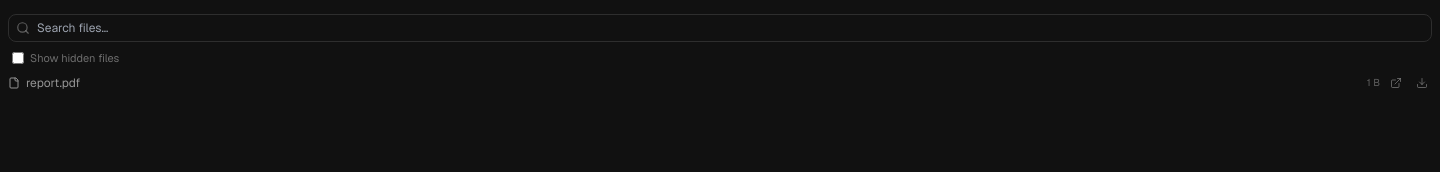
Test: SidebarWorkspaceTree hidden files › hides dotfiles by default and reveals them via the toggle
Expected: the text "report.pdf" is shown, [26, 74, 80, 90]
Expected: the text ".lha" is not shown
Click the checkbox labelled "Show hidden files": (18, 58) [12, 52, 24, 64]
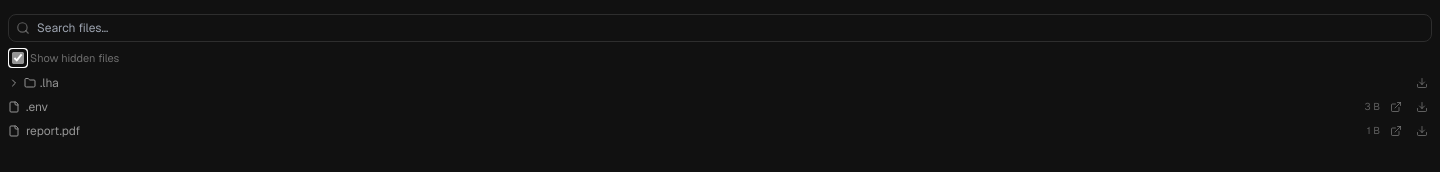
Expected: the text "report.pdf" is shown, [26, 122, 80, 138]
Expected: the text ".lha" is shown, [40, 74, 59, 90]
Expected: the text ".env" is shown, [26, 98, 48, 114]
Click the checkbox labelled "Show hidden files": (18, 58) [12, 52, 24, 64]
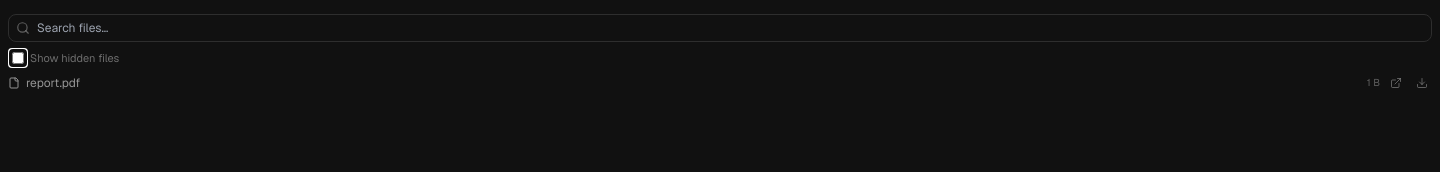
Expected: the text "report.pdf" is shown, [26, 74, 80, 90]
Expected: the button ".lha" is gone
